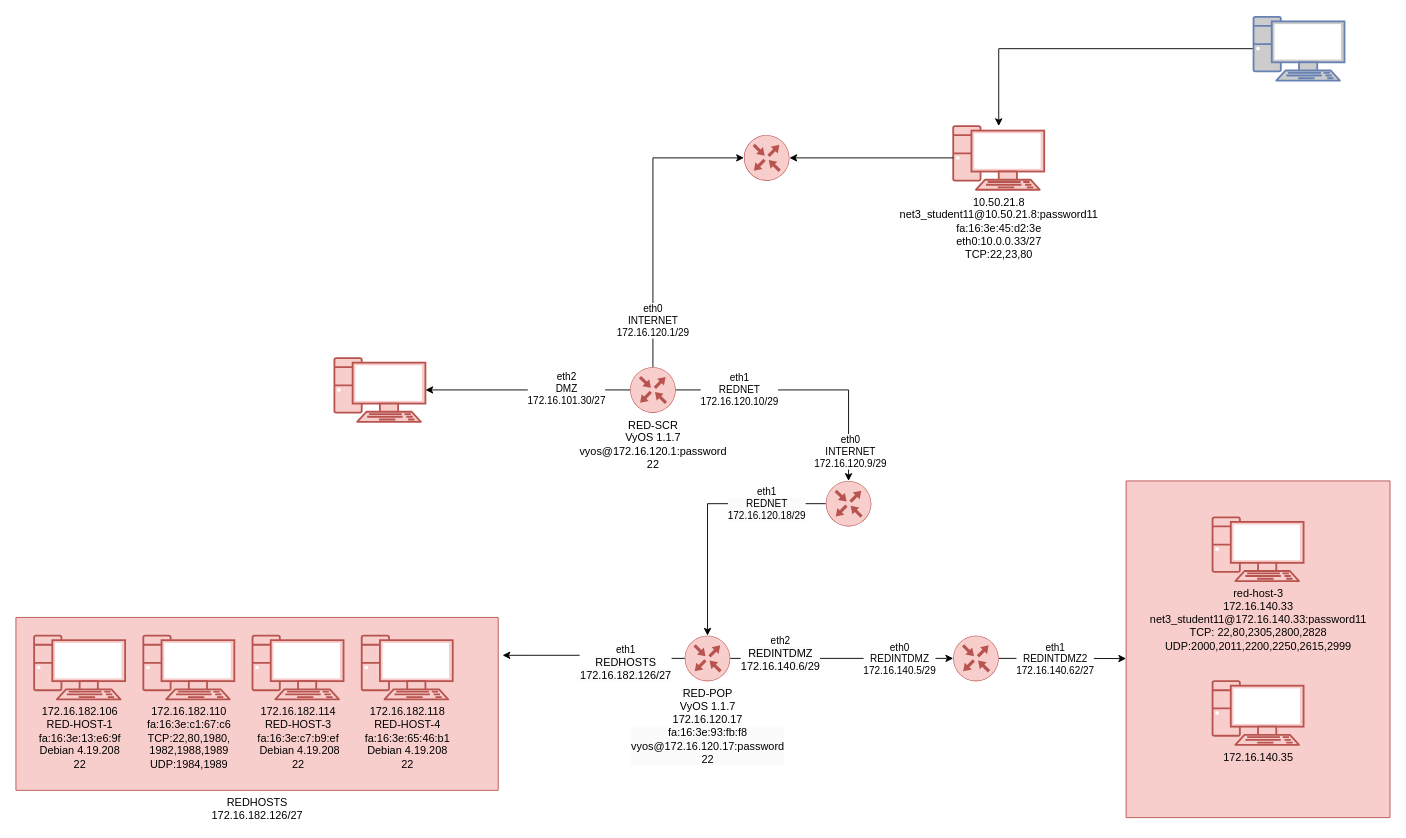
This 1406x838 diagram has some shape labels left out. The centre of each missing label's shape, as x and y in pixels:
"172.16.140.5 fa:16:3e:ba:71:31" belongs at [975,658].
"RED-DMZ-HOST-1 Debian 4.19 net3_student11@172.16.101.2:password11 22" belongs at [379,389].
"RED-IPS VyOS 1.1.7 vyos@172.16.120.9:password 22" belongs at [848,503].
"student@10.50.27.129" belongs at [1298,48].
"VyOS vyos@172.16.120.2:password fa:16:3e:f4:d0:81 22" belongs at [766,157].
